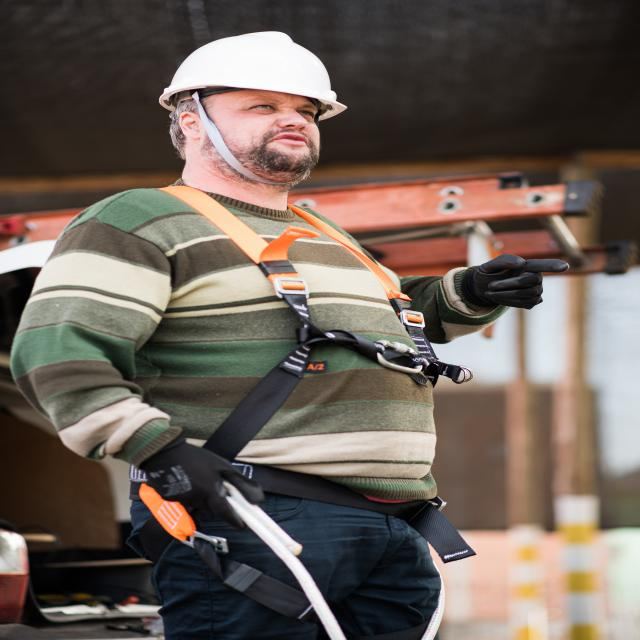capacete: (149, 27, 351, 126)
corda de vida: (117, 181, 480, 640)
luva: (132, 431, 272, 536), (453, 250, 574, 313)
